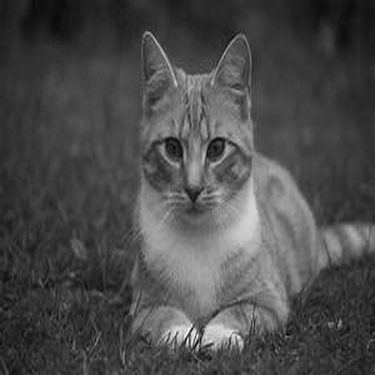cat: (109, 20, 371, 359)
